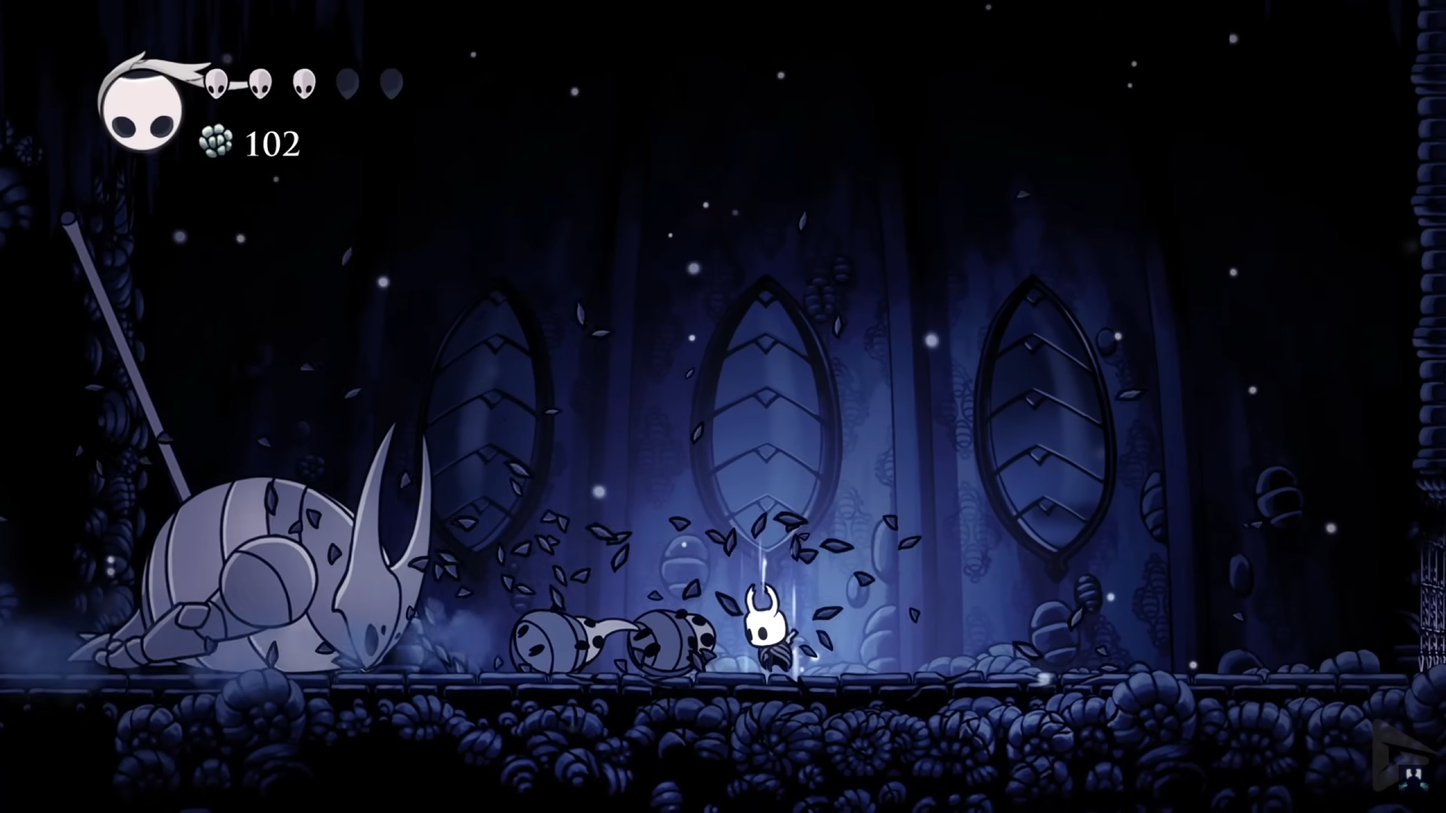HK: (737, 580, 796, 678)
